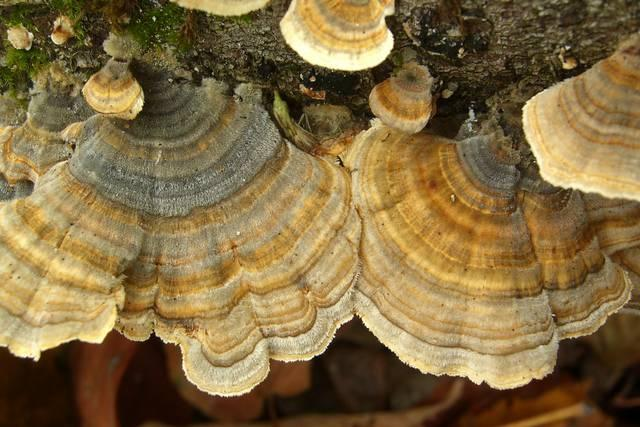Non-edible Mushroom: (0, 45, 362, 398), (341, 61, 633, 391), (278, 0, 396, 72)
